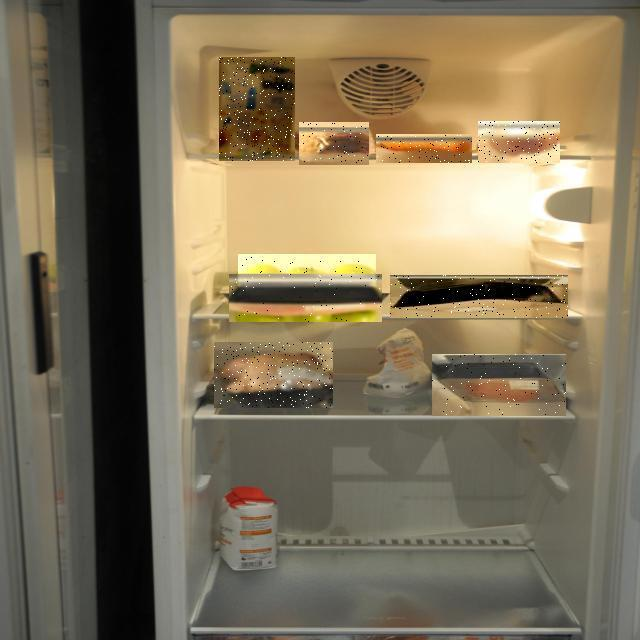apple: (50, 144, 426, 430)
carrot: (140, 82, 612, 245)
egg: (198, 82, 640, 245)
milk: (71, 80, 366, 242)
